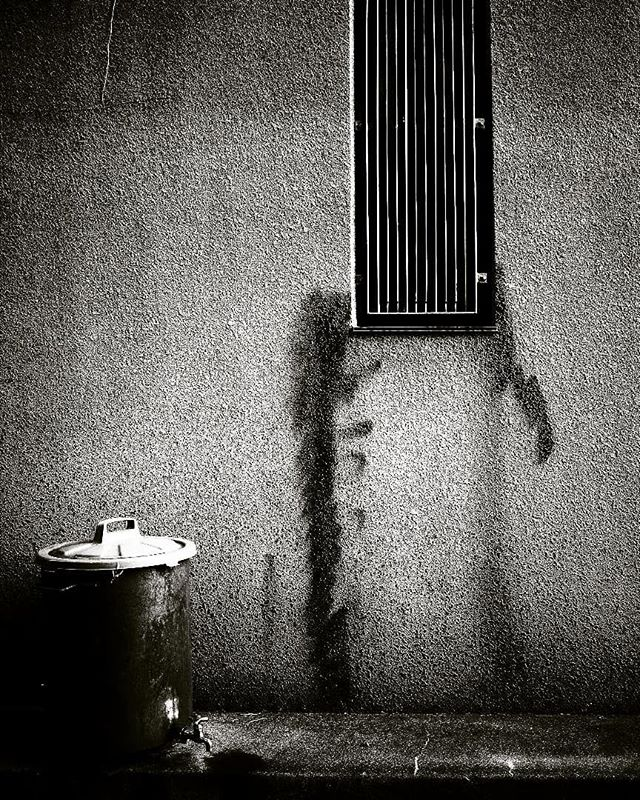trash can: (1, 500, 218, 761)
window: (337, 1, 495, 335)
